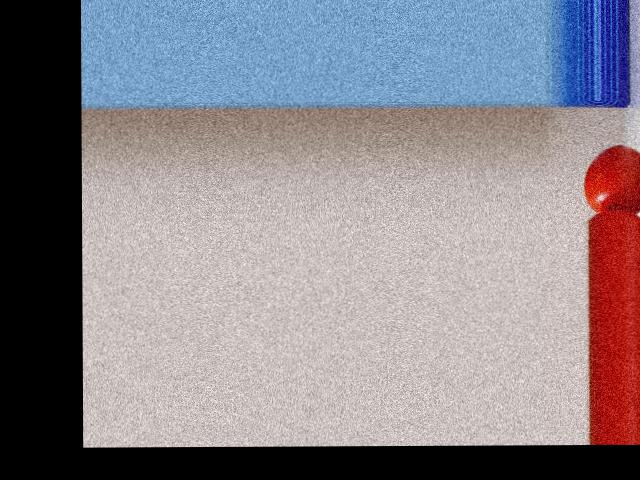tomato: (584, 145, 640, 212)
